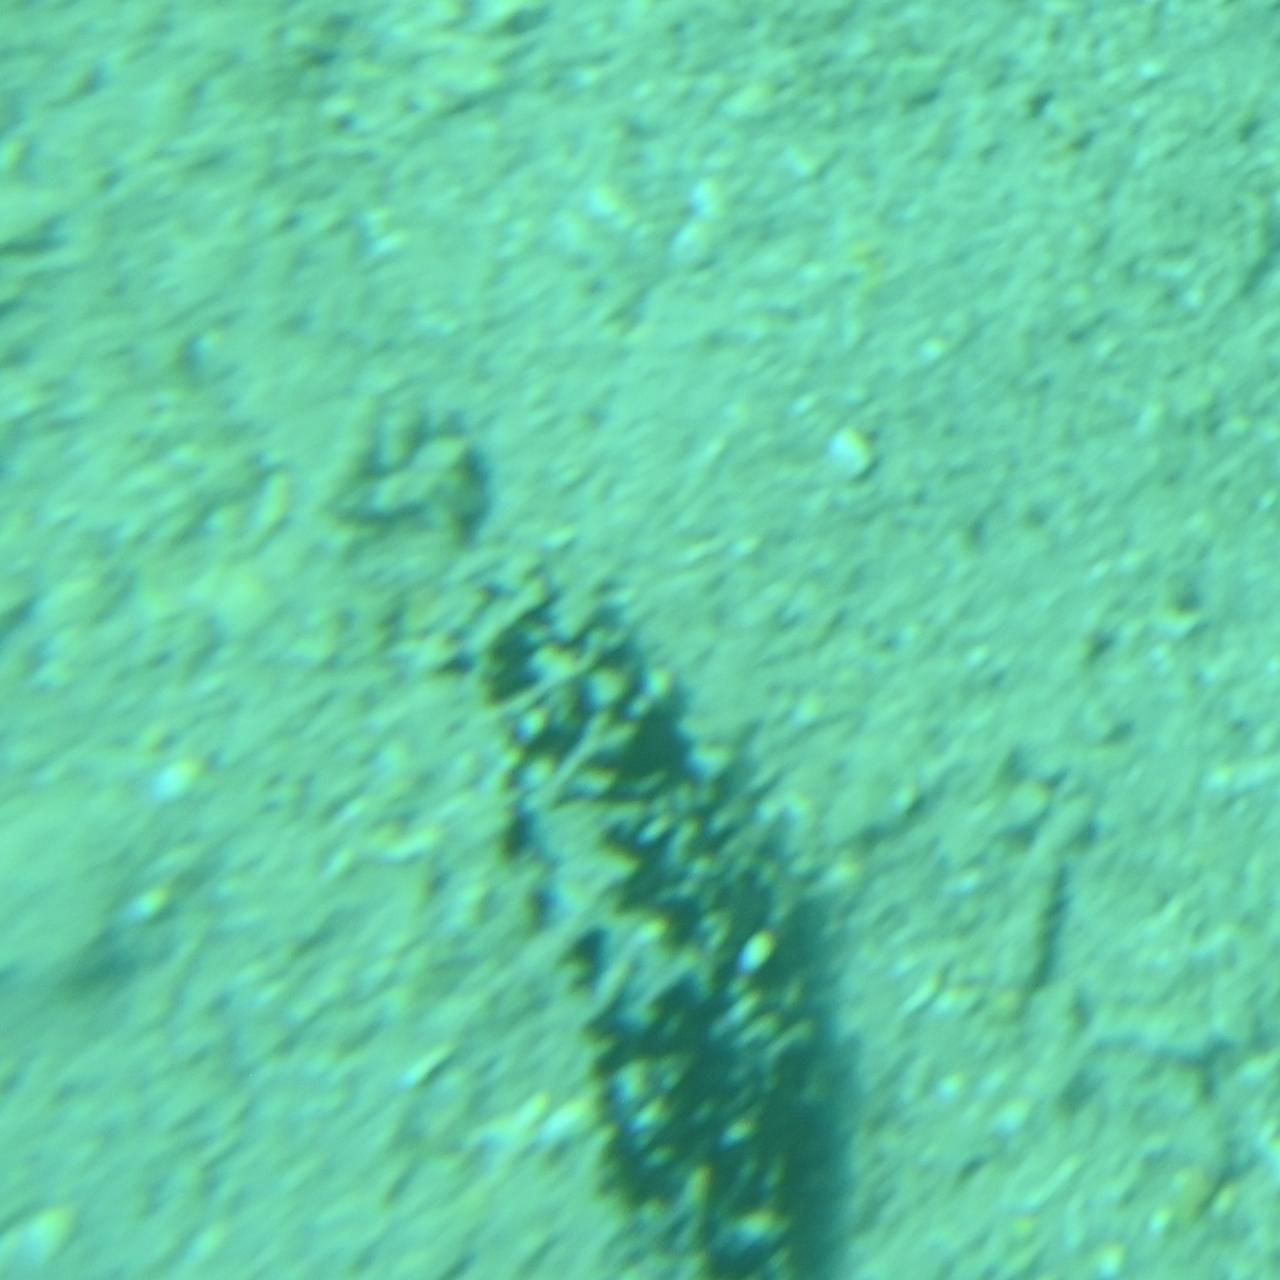Holothuria tubulosa: (411, 546, 869, 1278)
